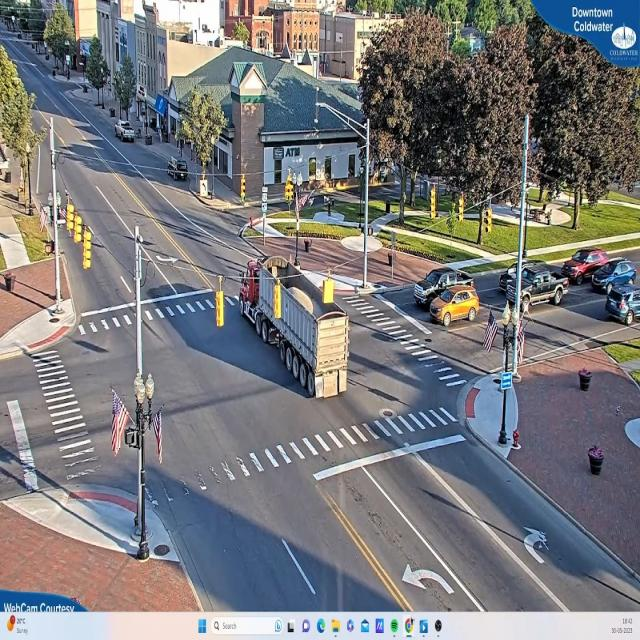car: (499, 266, 568, 310), (412, 266, 475, 308), (430, 290, 481, 326), (561, 249, 611, 285), (591, 261, 638, 295), (606, 289, 640, 325), (165, 153, 189, 180), (115, 118, 135, 140)
truck: (235, 258, 348, 396)
